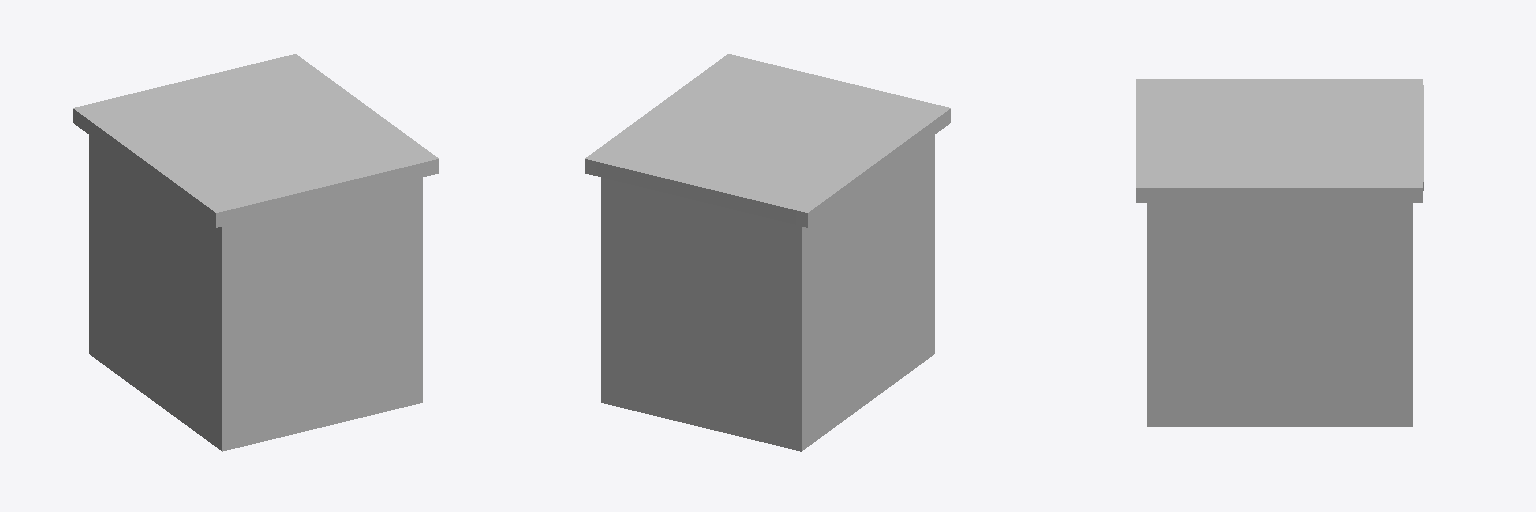
The model's file is 2FloorBuilding2.obj.
3 renders of one model, left to right at view 1: azimuth 30°, elevation 25°; view 2: azimuth 150°, elevation 25°; view 3: azimuth 270°, elevation 25°, orthographic.
Visible parts, largest first — view 1: SP_TD_House; view 2: SP_TD_House; view 3: SP_TD_House.
Boxes of the visible parts, box(x1,y1,x2,y2) form: SP_TD_House: box(73, 54, 438, 451); SP_TD_House: box(585, 54, 950, 451); SP_TD_House: box(1136, 79, 1423, 426).
Bounding box in the file's own units: 10.22 × 10.74 × 11.4.